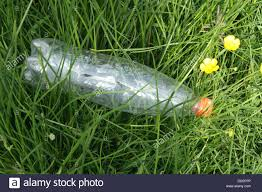plastic_bottle: (23, 37, 214, 120)
